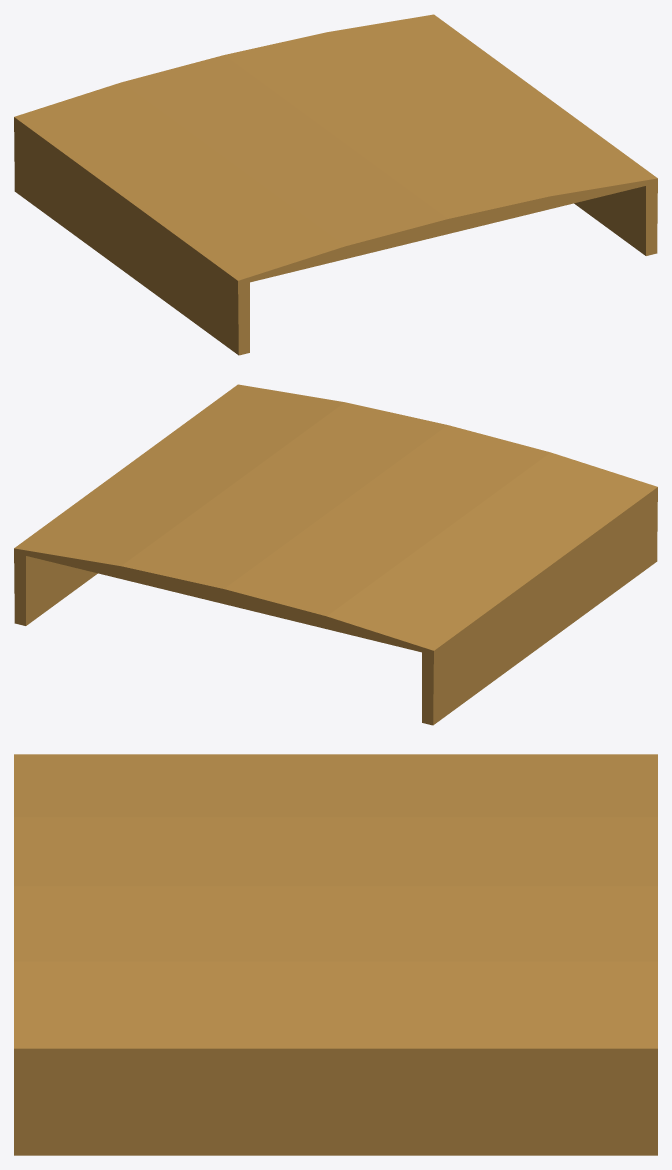
Rendered from Itr_Bed_Double_Blanket_10.FBX.
3 renders of one model, top to bottom at view 1: azimuth 30°, elevation 25°; view 2: azimuth 150°, elevation 25°; view 3: azimuth 270°, elevation 25°, orthographic. The views are drawn at different scales.
Parts seen in each view (by area): view 1: Itr_Bed_Double_Blanket_10; view 2: Itr_Bed_Double_Blanket_10; view 3: Itr_Bed_Double_Blanket_10.
Part boxes in pixels (x1=…): Itr_Bed_Double_Blanket_10: x1=14, y1=14, x2=657, y2=355; Itr_Bed_Double_Blanket_10: x1=14, y1=384, x2=657, y2=725; Itr_Bed_Double_Blanket_10: x1=14, y1=754, x2=657, y2=1155.
Size of the model in its own units: 70.21 by 13.65 by 64.86.
